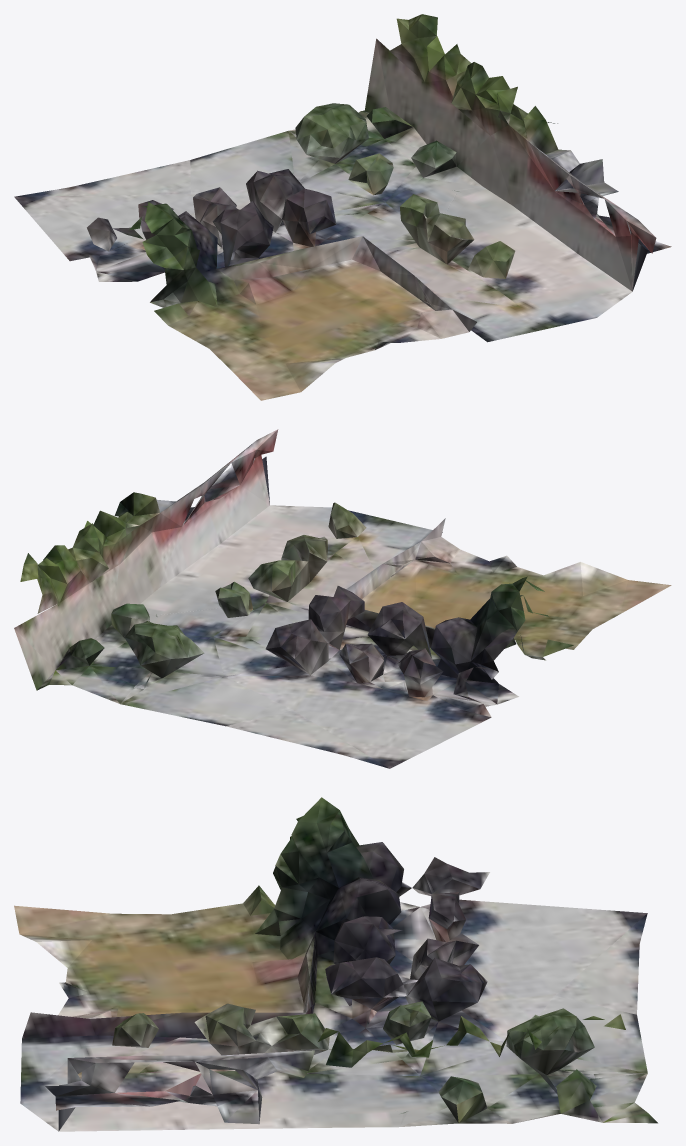
The model's file is Tile_+001_+004_L17_00.glb.
The picture shows the model from 3 angles, top to bottom: view 1: azimuth 30°, elevation 25°; view 2: azimuth 150°, elevation 25°; view 3: azimuth 270°, elevation 25°; orthographic projection. The views are drawn at different scales.
Bounding box in the file's own units: 58.4 × 13.62 × 62.26.
Materials: 1 (1 with a texture image).
